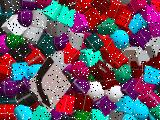Left: (29, 55, 71, 113)
